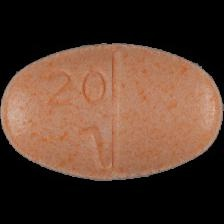45865-424: (0, 0, 224, 224)
